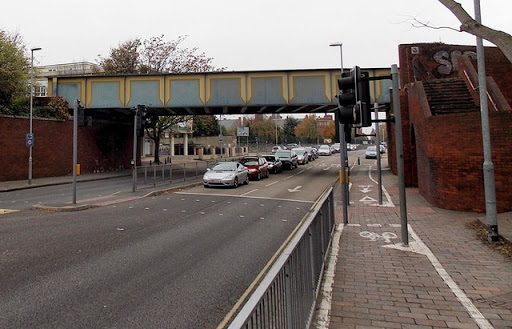bridge: (52, 67, 395, 114)
